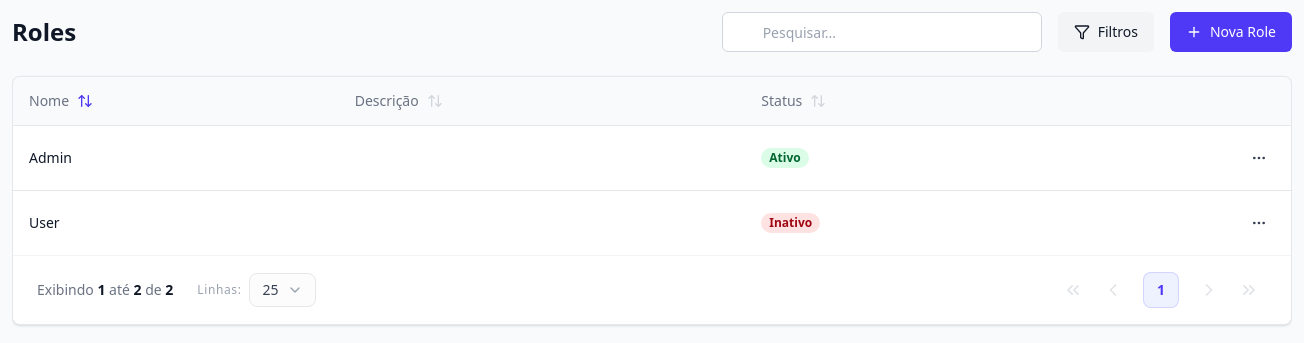
Test case: RoleListPage › handles toggle status mutation error
Check: the text "Admin" is shown, box x1=29 y1=148 x2=72 y2=166
Step 1. Click the button "Ativo" → (785, 158), box x1=761 y1=148 x2=809 y2=168
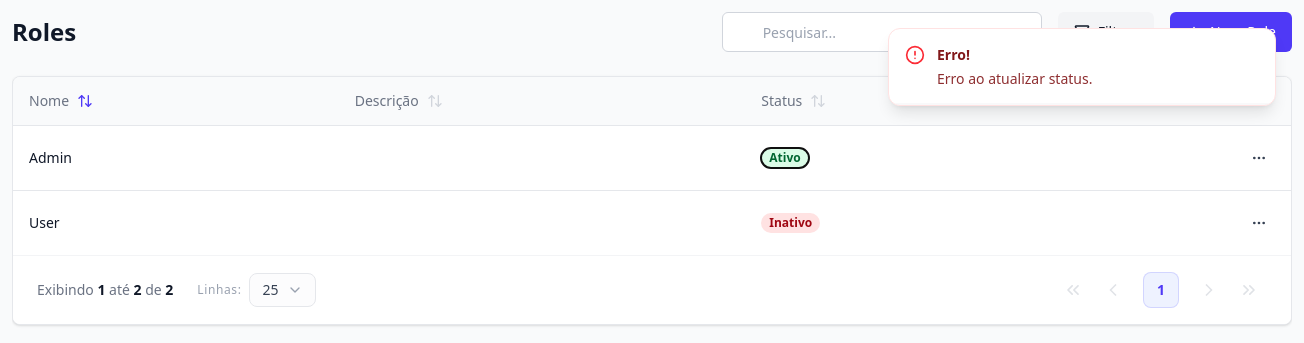
Check: the text "Erro ao atualizar status." is shown, box x1=937 y1=69 x2=1092 y2=89
